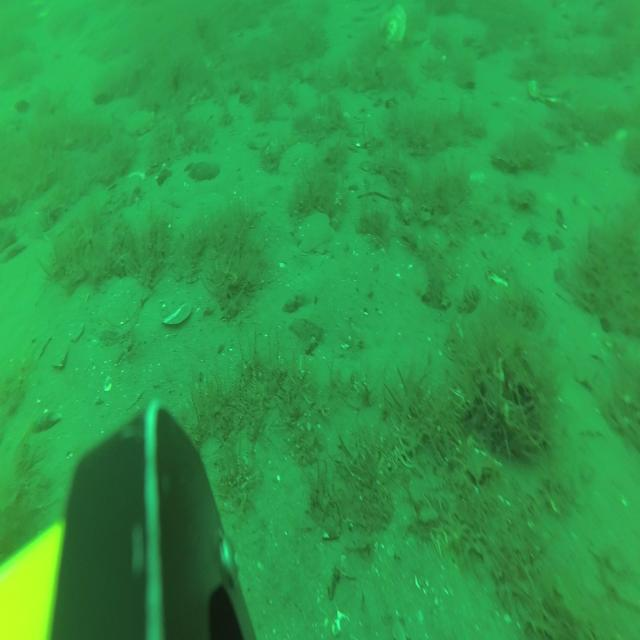scallop: (107, 278, 148, 321), (296, 214, 334, 252), (528, 73, 570, 104), (378, 5, 406, 51), (126, 109, 154, 134)
